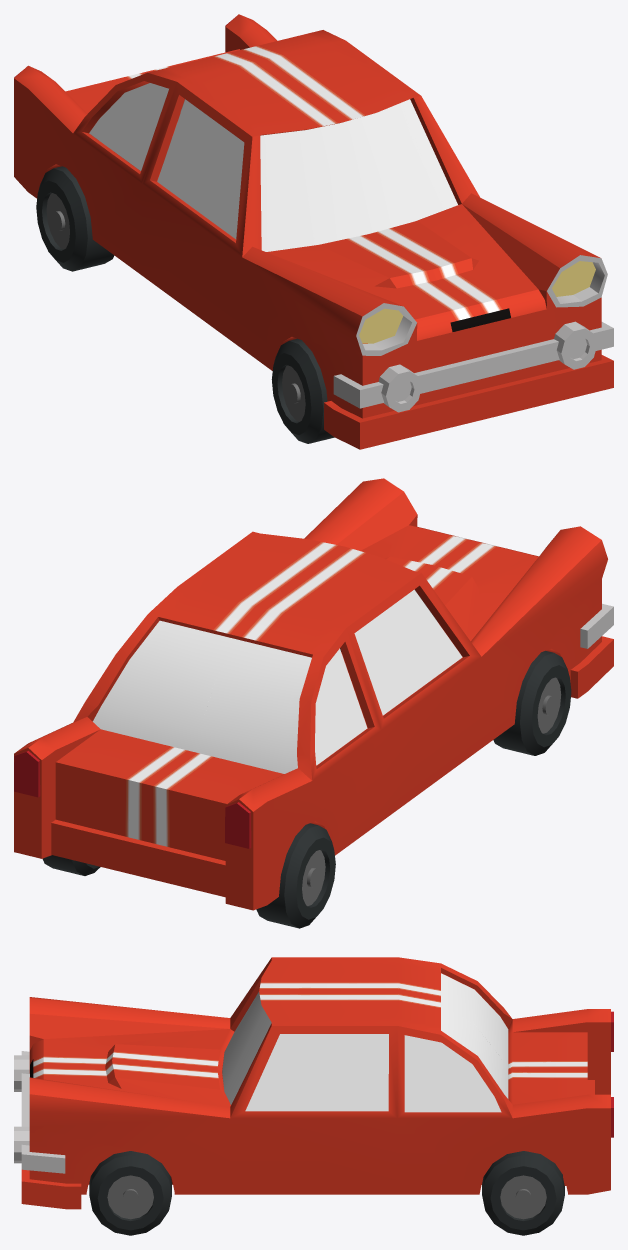
The model's file is obj_sportscar_1.fbx.
The picture shows the model from 3 angles, top to bottom: view 1: azimuth 30°, elevation 25°; view 2: azimuth 150°, elevation 25°; view 3: azimuth 270°, elevation 25°; orthographic projection. The views are drawn at different scales.
Parts seen in each view (by area): view 1: obj_sportscar_1; view 2: obj_sportscar_1; view 3: obj_sportscar_1.
Boxes of the visible parts, <box> form: obj_sportscar_1: <box>14,14,613,449</box>; obj_sportscar_1: <box>14,478,613,928</box>; obj_sportscar_1: <box>14,957,613,1235</box>.
Size of the model in its own units: 1.38 by 1.18 by 3.3.
3 materials, 3 textured.
